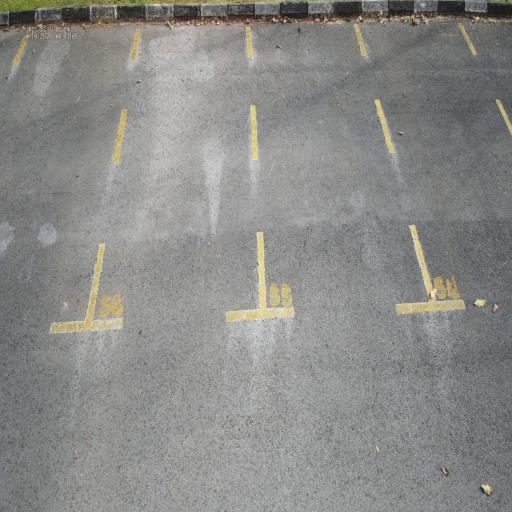Empty: (80, 20, 270, 338), (242, 20, 440, 322)
